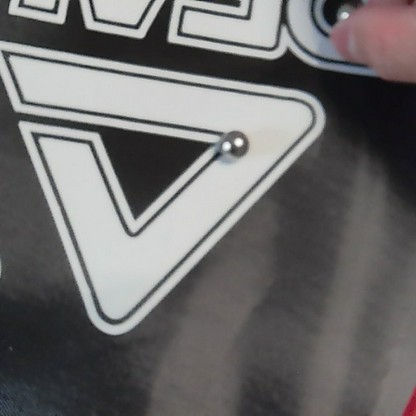ironball: (221, 132, 247, 156), (337, 4, 354, 19)
